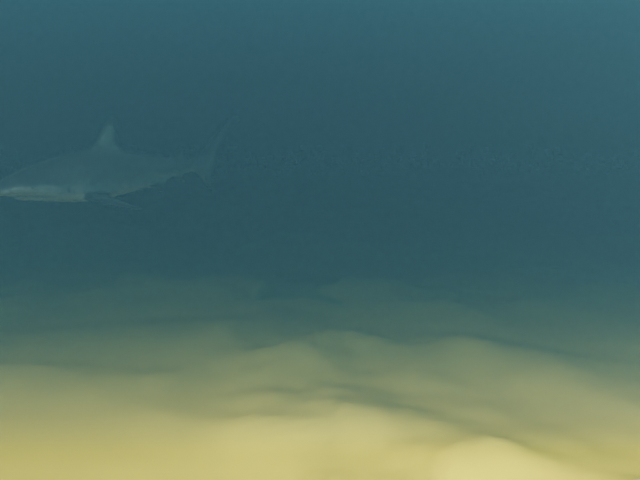Carribean Shark.001: (0, 117, 236, 210)
